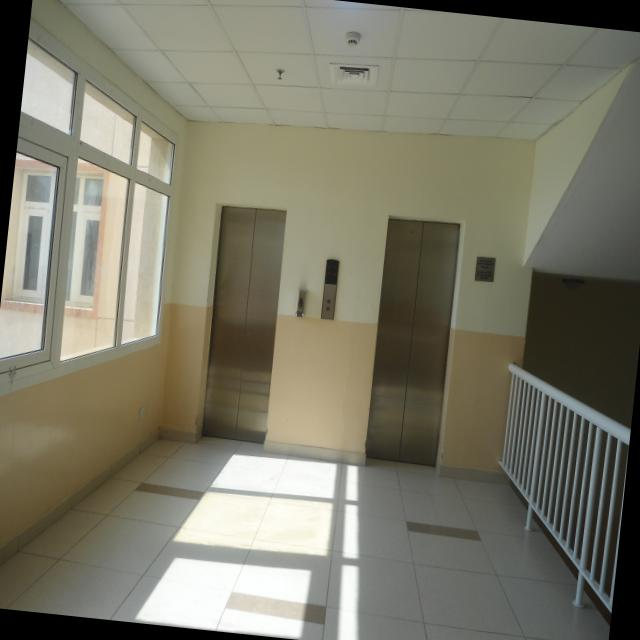lift: (352, 207, 469, 480), (190, 188, 302, 448)
liftbutton: (316, 256, 344, 333)
railing: (472, 343, 638, 634)
sign: (471, 248, 502, 287)
window: (0, 6, 199, 412)
